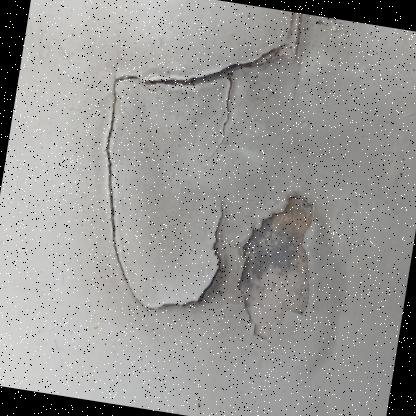Crack: (40, 0, 396, 385)
